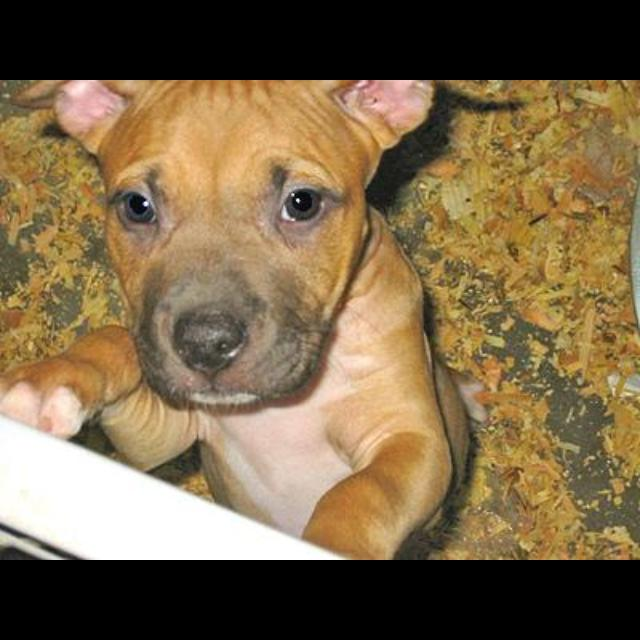amstaff: (1, 81, 525, 559)
